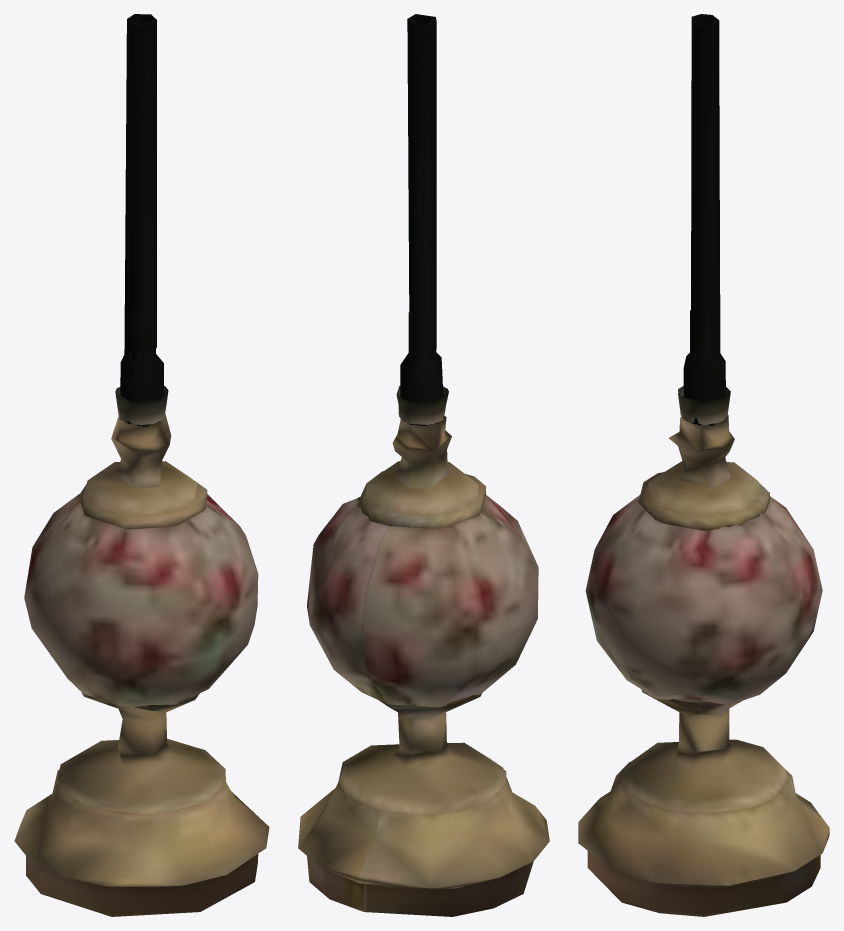
File: design-vintage-oil-lamp.glb
The picture shows the model from 3 angles, left to right: view 1: azimuth 30°, elevation 25°; view 2: azimuth 150°, elevation 25°; view 3: azimuth 270°, elevation 25°; orthographic projection.
Visible parts, largest first — view 1: vintage_oil_lamp, vintage_oil_lamp_glass; view 2: vintage_oil_lamp, vintage_oil_lamp_glass; view 3: vintage_oil_lamp, vintage_oil_lamp_glass.
Boxes of the visible parts, x1=… form: vintage_oil_lamp: x1=14, y1=414, x2=269, y2=916; vintage_oil_lamp_glass: x1=115, y1=14, x2=168, y2=426; vintage_oil_lamp: x1=298, y1=416, x2=549, y2=916; vintage_oil_lamp_glass: x1=396, y1=14, x2=448, y2=425; vintage_oil_lamp: x1=578, y1=414, x2=829, y2=916; vintage_oil_lamp_glass: x1=678, y1=14, x2=730, y2=425.
Size of the model in its own units: 0.2179 by 0.8016 by 0.2155.
Materials: 3 (3 with a texture image).
